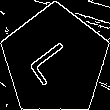L_NE: (27, 34, 83, 88)
